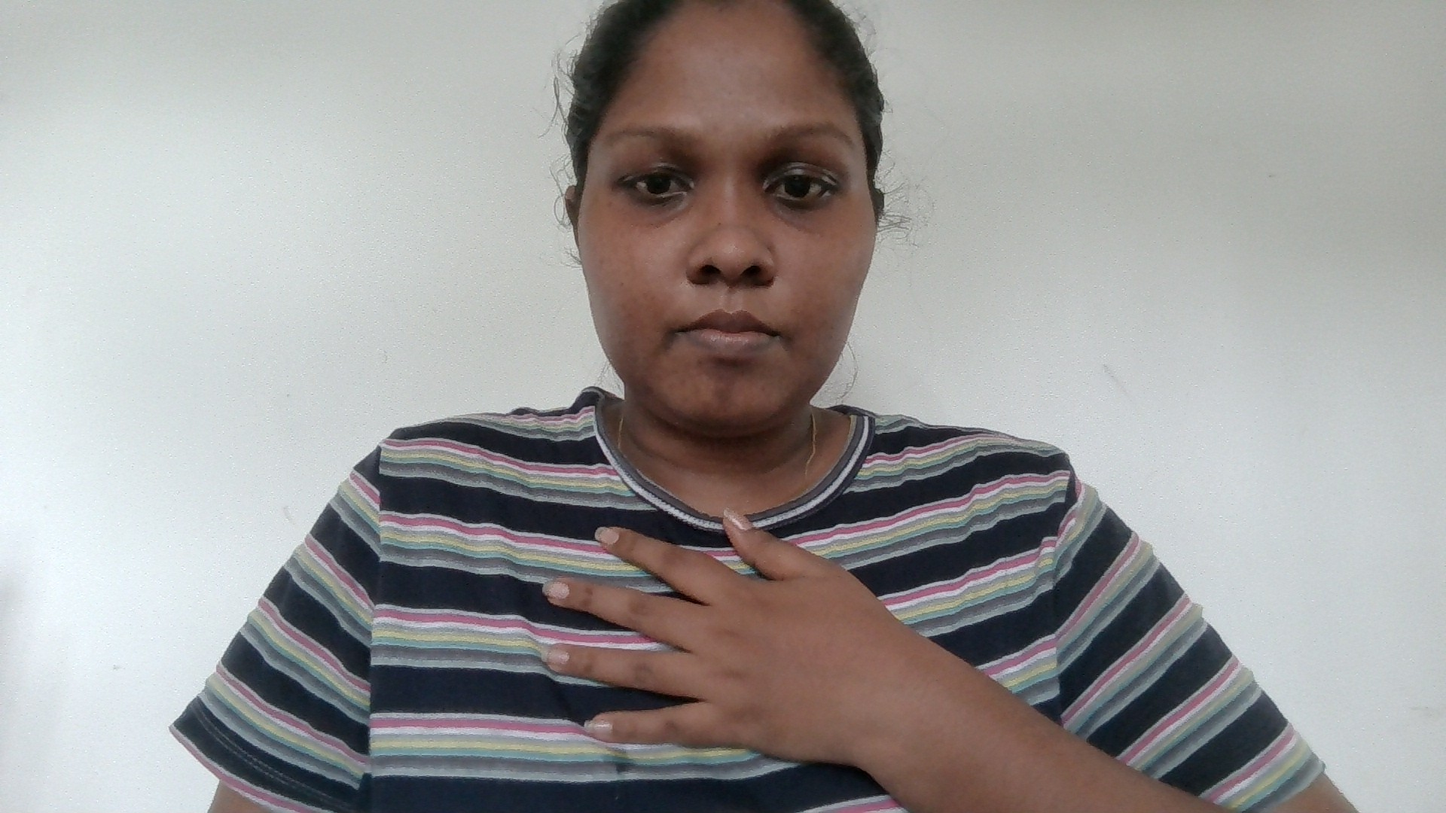Please: (510, 490, 960, 792)
